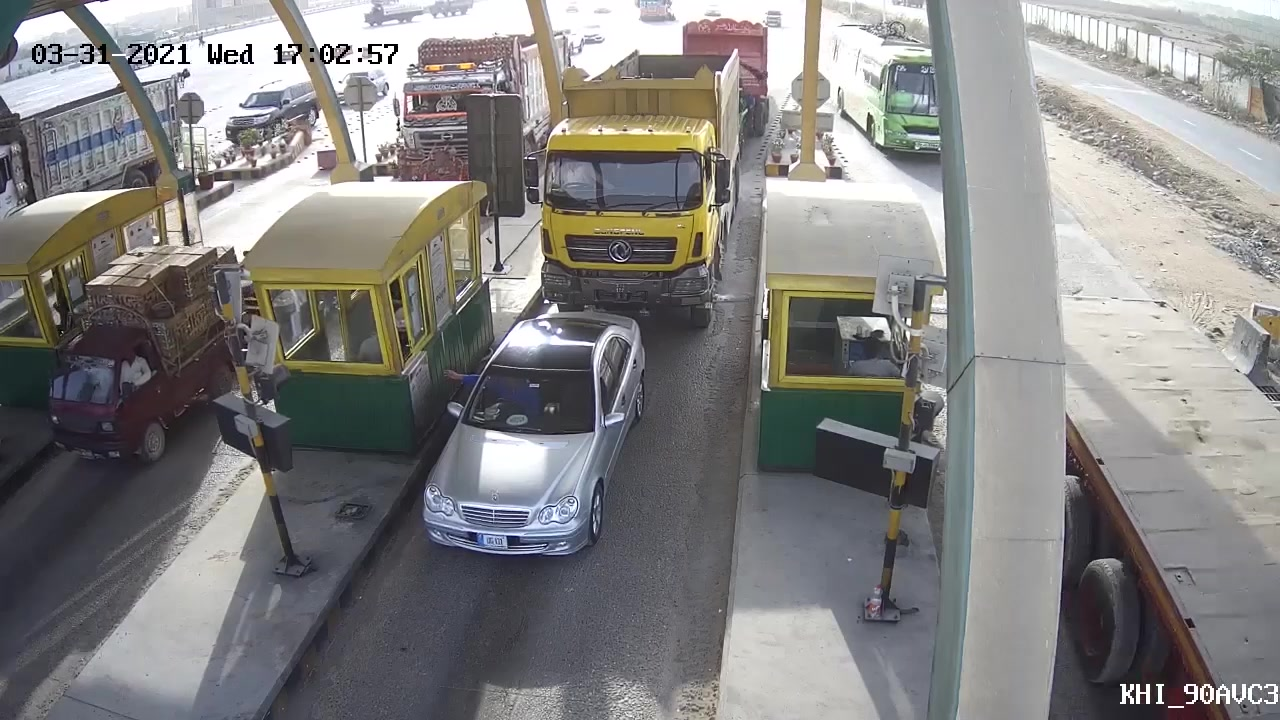F1: (394, 308, 664, 562)
F5: (524, 43, 747, 336)
